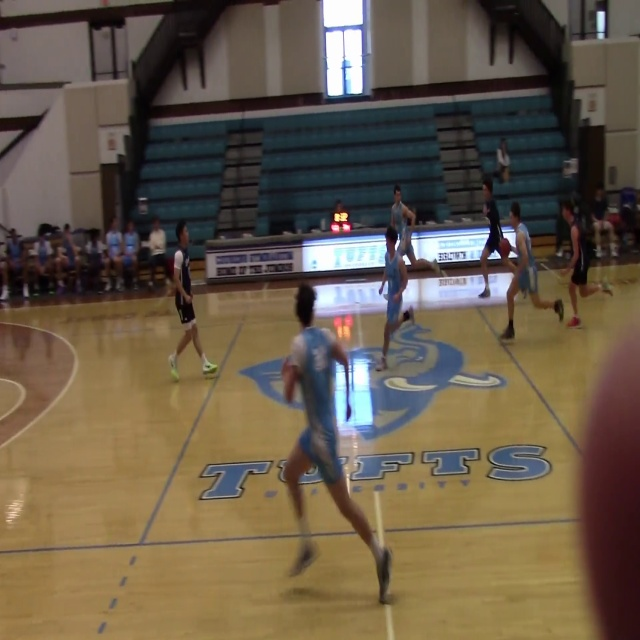Basketball: (517, 269, 530, 291), (498, 238, 511, 258)
